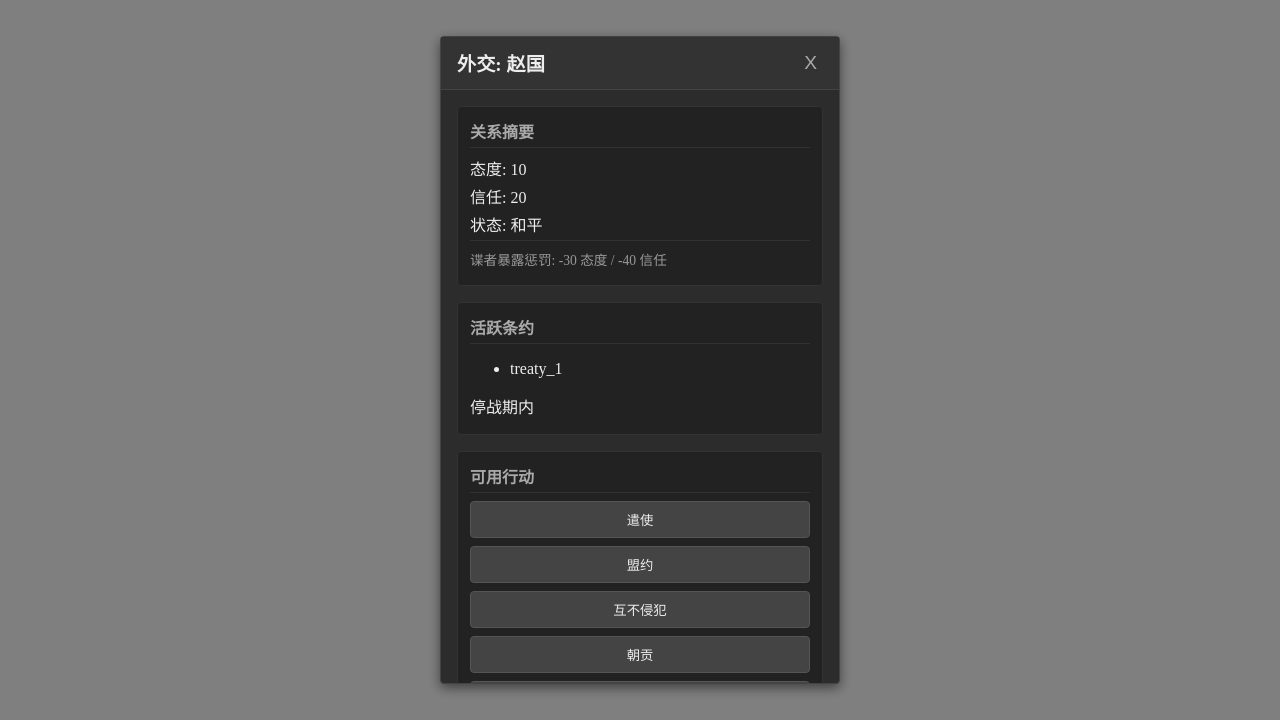
Scenario: DiplomacyPanel › handles envoy action success with localized feedback copy
Click the button with test id "diplomacy-action-envoy".
click(640, 520)  # box [470,501,810,538]
(page scrolled)
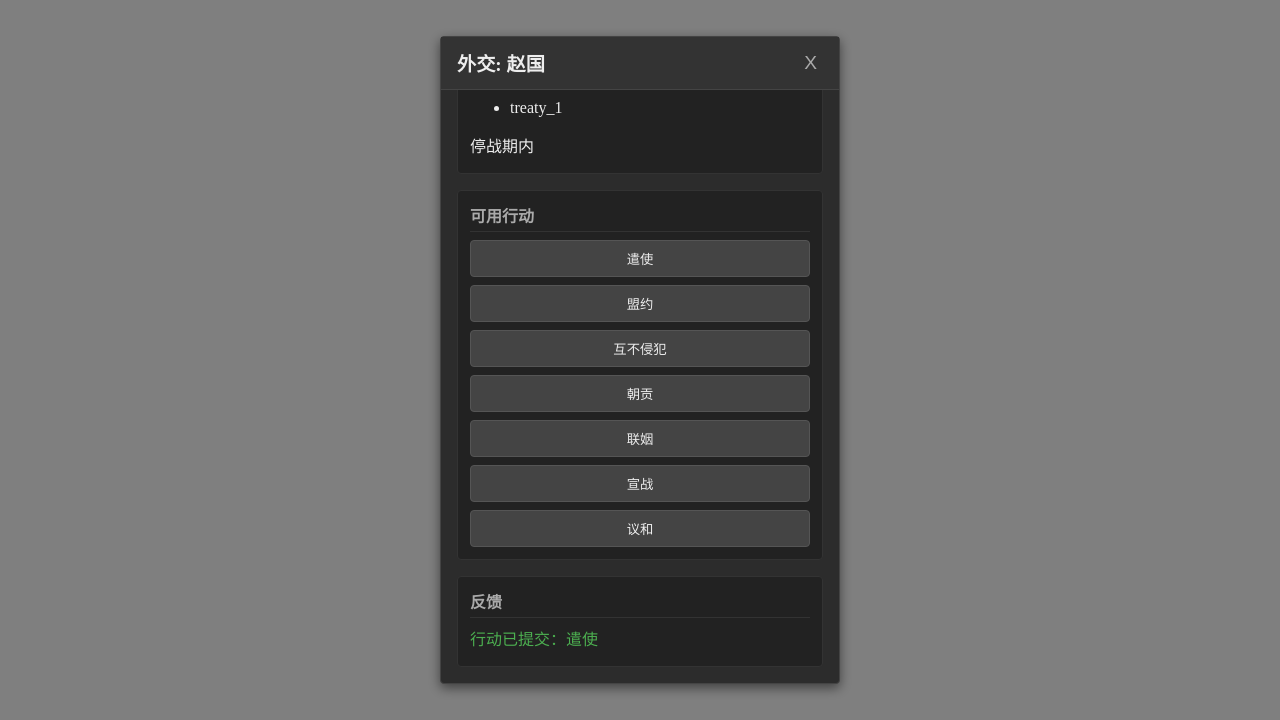
Check: the element with test id "diplomacy-feedback" shows "行动已提交：遣使", box [470,631,598,648]
